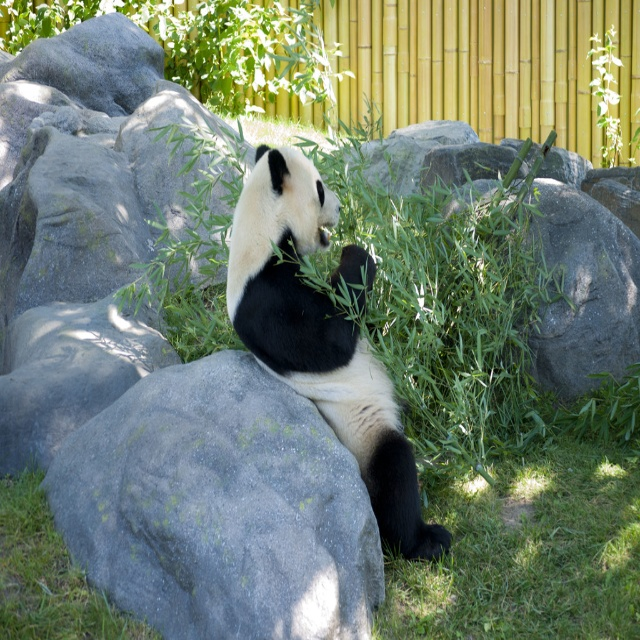Panda: (227, 146, 454, 564)
